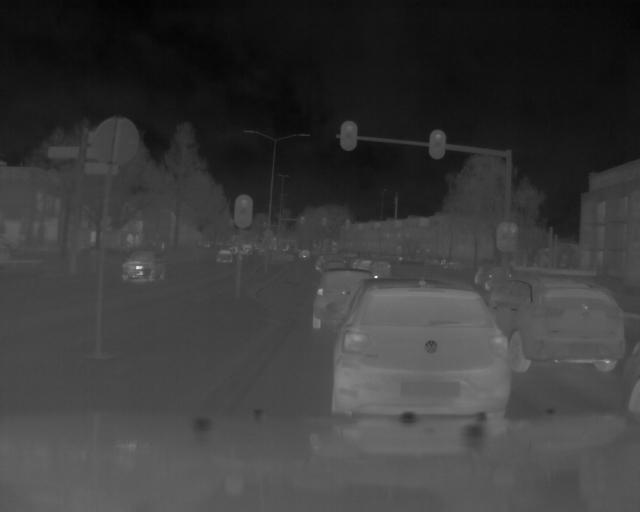car: (333, 278, 511, 419), (489, 277, 625, 374), (312, 267, 376, 331), (122, 249, 171, 285), (473, 263, 512, 292), (216, 249, 234, 263)
